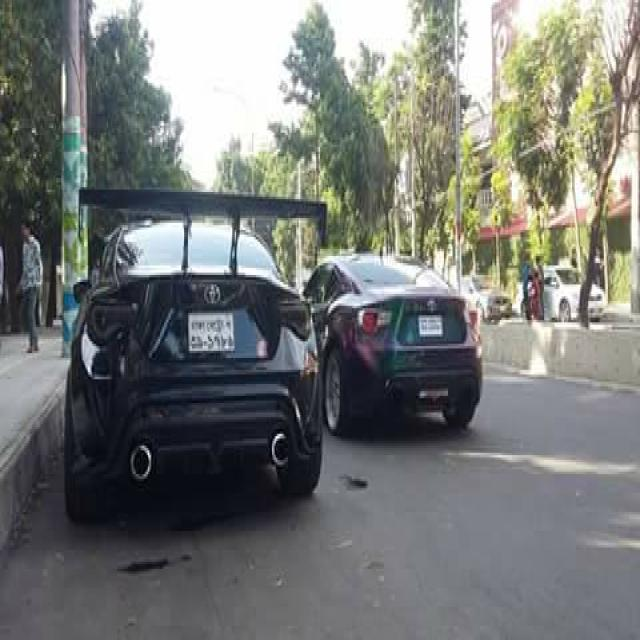numberplate: (185, 308, 235, 353), (418, 311, 444, 338)
